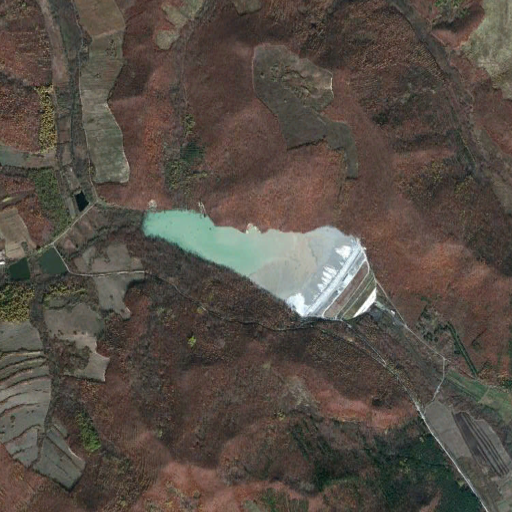tp: (141, 209, 379, 321)
